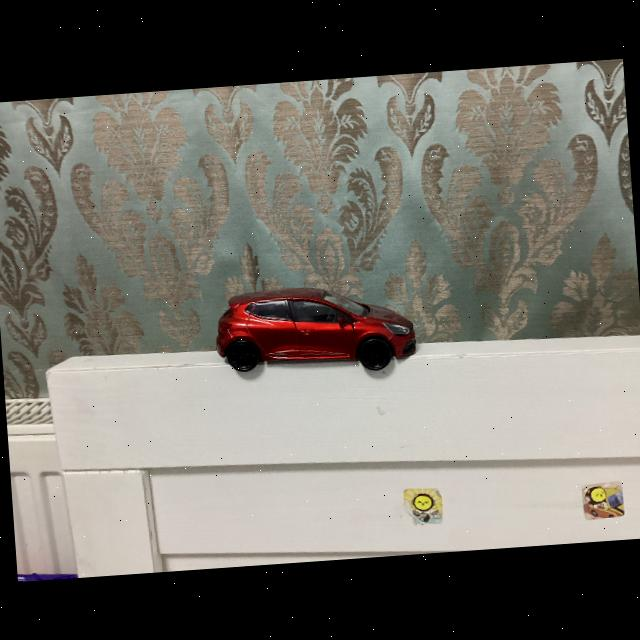Dogru_Jant: (360, 339, 391, 368), (228, 344, 256, 369)
